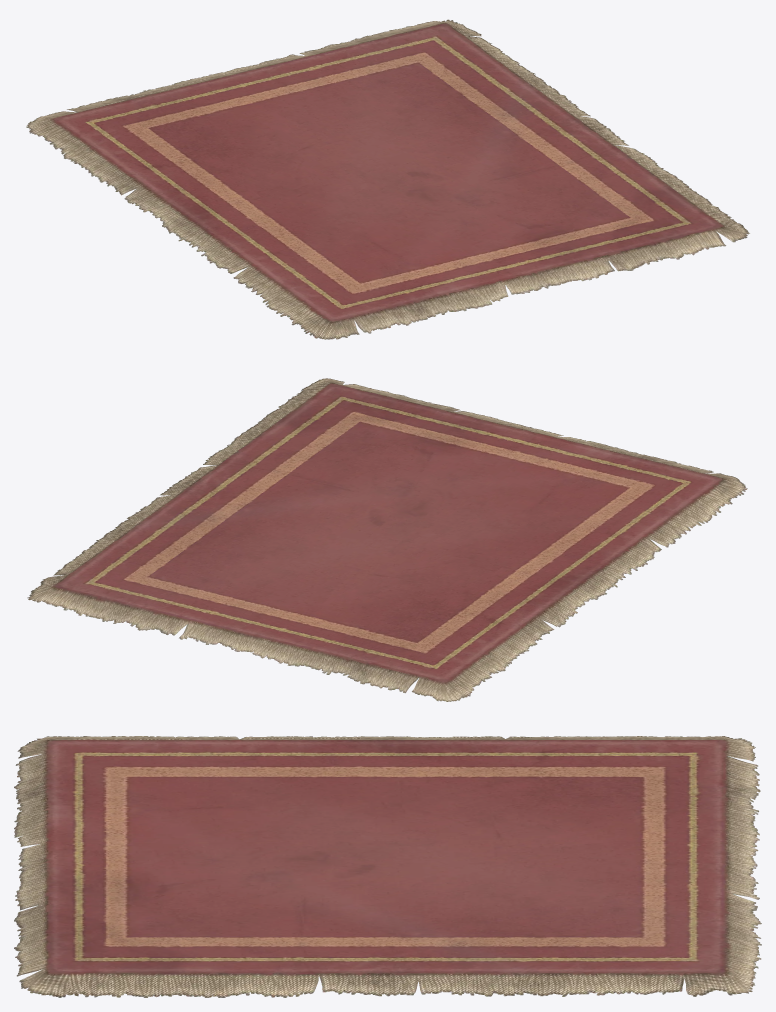
The picture shows the model from 3 angles, top to bottom: view 1: azimuth 30°, elevation 25°; view 2: azimuth 150°, elevation 25°; view 3: azimuth 270°, elevation 25°; orthographic projection. The views are drawn at different scales.
Parts seen in each view (by area): view 1: SM_Rug_01v1_LOD0; view 2: SM_Rug_01v1_LOD0; view 3: SM_Rug_01v1_LOD0.
Boxes of the visible parts, box(x1,y1,x2,y2) form: SM_Rug_01v1_LOD0: box(26, 19, 749, 339); SM_Rug_01v1_LOD0: box(27, 378, 747, 701); SM_Rug_01v1_LOD0: box(14, 736, 761, 997).
Bounding box in the file's own units: 1.85 × 0.033 × 2.24.
1 material, 1 textured.
